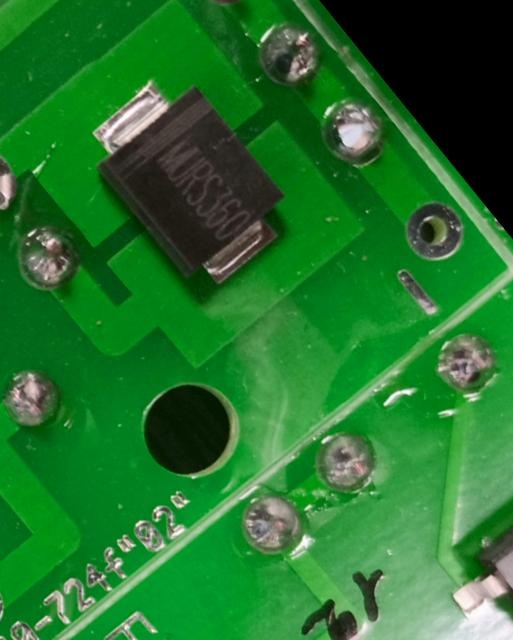diode: (68, 54, 306, 304)
ic: (427, 436, 513, 640)
